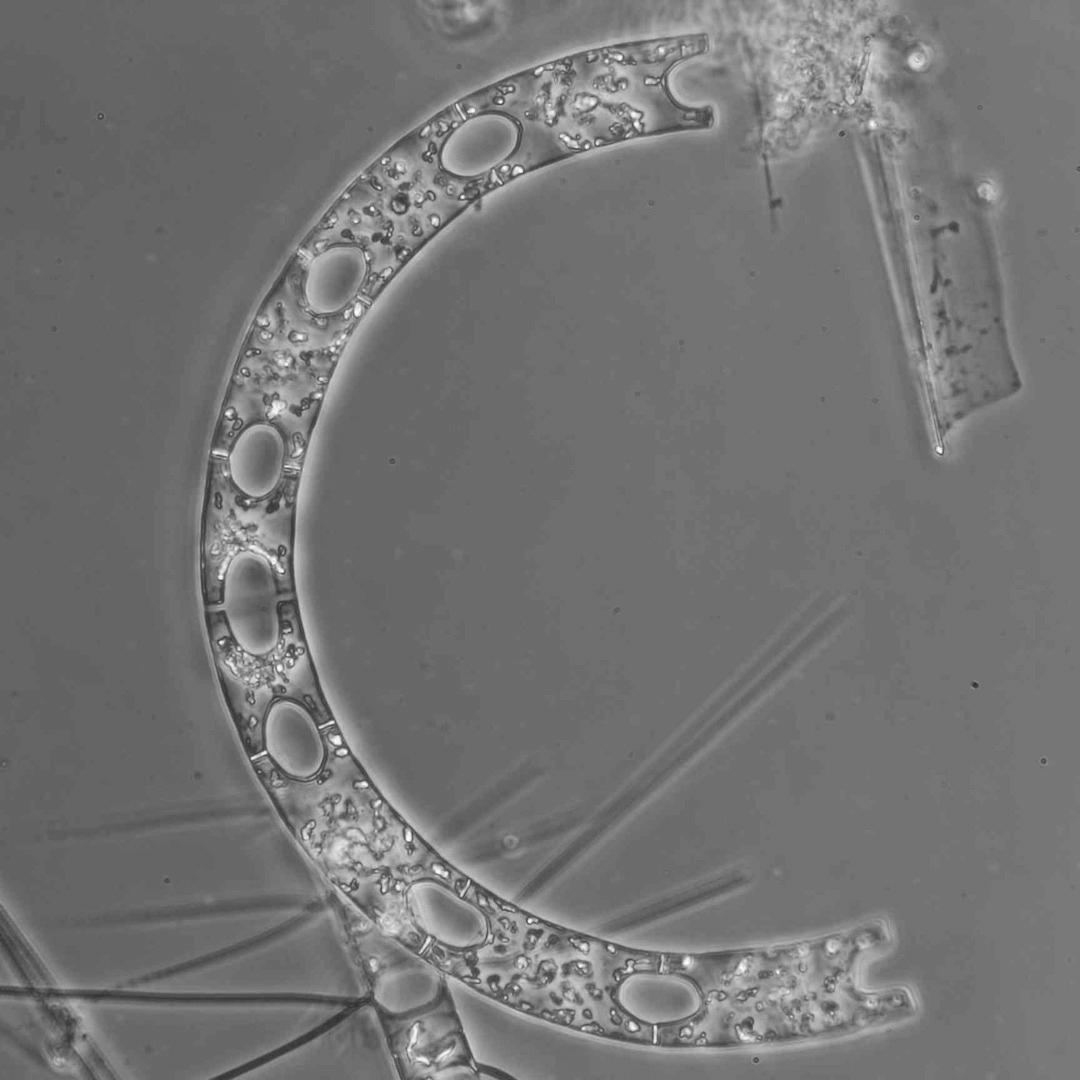eucampia_zodiacus: (195, 35, 918, 1053)
